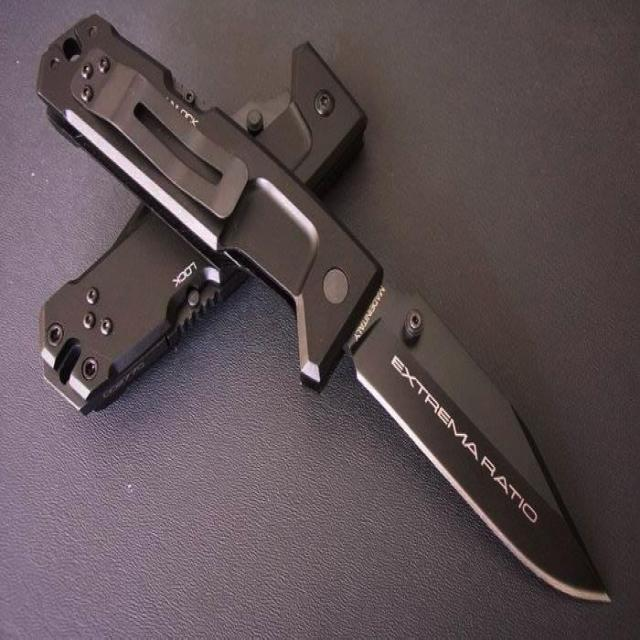knife: (30, 13, 614, 615)
